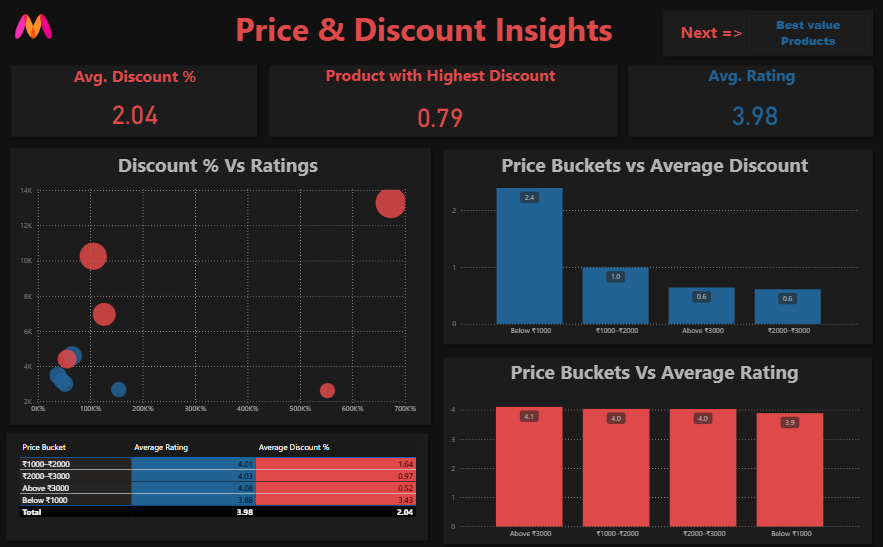

The page's visual inventory and layout, read from the dashboard file:
{"tool":"powerbi","page":{"name":"Pricing & Discount Insights","canvas":[1480,920],"ordinal":2},"visuals":[{"type":"shape","box":[443.4,102.2,600,137],"z":0},{"type":"shape","box":[10,241.7,721.7,480],"z":1000},{"type":"shape","box":[1043,102.6,428.7,137.3],"z":2000,"group":"g3"},{"type":"shape","box":[734.2,242.6,736.2,344.2],"z":2000},{"type":"shape","box":[734.4,590,735,330],"z":2000,"group":"g1"},{"type":"shape","box":[3.3,717.8,723.3,196.7],"z":2000,"group":"g2"},{"type":"scatterChart","fields":{"X":["Sum(myntra_cleaned.discount_percent)"],"Y":["Sum(myntra_cleaned.ratings)"],"Size":["Sum(myntra_cleaned.ratings)"],"Category":["myntra_cleaned.brand_name","myntra_cleaned.pants_description"]},"box":[30,305.7,672.9,397.1],"z":3000},{"type":"clusteredColumnChart","fields":{"Y":["myntra_cleaned.Average Discount %"],"Category":["myntra_cleaned.Price Bucket"]},"box":[753,280,689,294],"z":4000},{"type":"shape","box":[1102.5,10,368.8,95],"z":5000},{"type":"card","fields":{"Values":["myntra_cleaned.Average Rating"]},"box":[1048.3,153,431.7,77.6],"z":5000,"group":"g3"},{"type":"card","fields":{"Values":["myntra_cleaned.High Discount Products %"]},"box":[444.4,153.2,586,82],"z":6000},{"type":"clusteredColumnChart","fields":{"Category":["myntra_cleaned.Price Bucket"],"Y":["myntra_cleaned.Average Rating"]},"box":[750.9,641.4,695.7,270],"z":6000,"group":"g1"},{"type":"textbox","box":[335,6.7,766.7,86.7],"z":7000},{"type":"textbox","box":[1112.5,31.2,161.2,55],"z":8000},{"type":"textbox","box":[444.4,104.3,586.5,58],"z":9000},{"type":"textbox","box":[1043.2,105.1,431.2,54.9],"z":9000,"group":"g3"},{"type":"tableEx","fields":{"Values":["myntra_cleaned.Price Bucket","myntra_cleaned.Average Rating","myntra_cleaned.Average Discount %"]},"box":[27.7,734.8,685,160],"z":9000,"group":"g2"},{"type":"group","id":"g1","title":"Group 3","box":[734.4,590,735,330],"z":10000},{"type":"group","id":"g2","title":"Group 4","box":[3.3,717.8,723.3,196.7],"z":11000},{"type":"shape","box":[12.4,102,428.7,137.3],"z":12000},{"type":"card","fields":{"Values":["myntra_cleaned.Average Discount %"]},"box":[12,151.1,430.9,78.6],"z":13000},{"type":"textbox","box":[12,104.6,431.2,54.9],"z":14000},{"type":"group","id":"g3","title":"Group 5","box":[1043,102.6,437.1,137.3],"z":15000},{"type":"pageNavigator","box":[1255,27.5,198.8,58.8],"z":16000},{"type":"textbox","box":[18.3,250,695,58.3],"z":17000},{"type":"textbox","box":[750,250,695,58.3],"z":18000},{"type":"textbox","box":[750,595,695,58.3],"z":19000},{"type":"image","box":[10,10,94.5,70.9],"z":19001}]}

Visuals, with their boxes in screenshot pixels (x1, y1, x2, y2), scaled from the page's 1480x920 canvas onto the 883x547 screenshot:
shape: bbox=[265, 61, 623, 142]
shape: bbox=[6, 144, 437, 429]
shape: bbox=[622, 61, 878, 143]
shape: bbox=[438, 144, 877, 349]
shape: bbox=[438, 351, 877, 546]
shape: bbox=[2, 427, 434, 544]
scatterChart - Sum(myntra_cleaned.discount_percent) x Sum(myntra_cleaned.ratings): bbox=[18, 182, 419, 418]
clusteredColumnChart - myntra_cleaned.Average Discount % x myntra_cleaned.Price Bucket: bbox=[449, 166, 860, 341]
shape: bbox=[658, 6, 878, 62]
card - myntra_cleaned.Average Rating: bbox=[625, 91, 882, 137]
card - myntra_cleaned.High Discount Products %: bbox=[265, 91, 615, 140]
clusteredColumnChart - myntra_cleaned.Price Bucket x myntra_cleaned.Average Rating: bbox=[448, 381, 863, 542]
textbox: bbox=[200, 4, 657, 56]
textbox: bbox=[664, 19, 760, 51]
textbox: bbox=[265, 62, 615, 96]
textbox: bbox=[622, 62, 880, 95]
tableEx - myntra_cleaned.Price Bucket x myntra_cleaned.Average Rating: bbox=[17, 437, 425, 532]
"Group 3" group: bbox=[438, 351, 877, 546]
"Group 4" group: bbox=[2, 427, 434, 544]
shape: bbox=[7, 61, 263, 142]
card - myntra_cleaned.Average Discount %: bbox=[7, 90, 264, 137]
textbox: bbox=[7, 62, 264, 95]
"Group 5" group: bbox=[622, 61, 882, 143]
pageNavigator: bbox=[749, 16, 867, 51]
textbox: bbox=[11, 149, 426, 183]
textbox: bbox=[447, 149, 862, 183]
textbox: bbox=[447, 354, 862, 388]
image: bbox=[6, 6, 62, 48]
